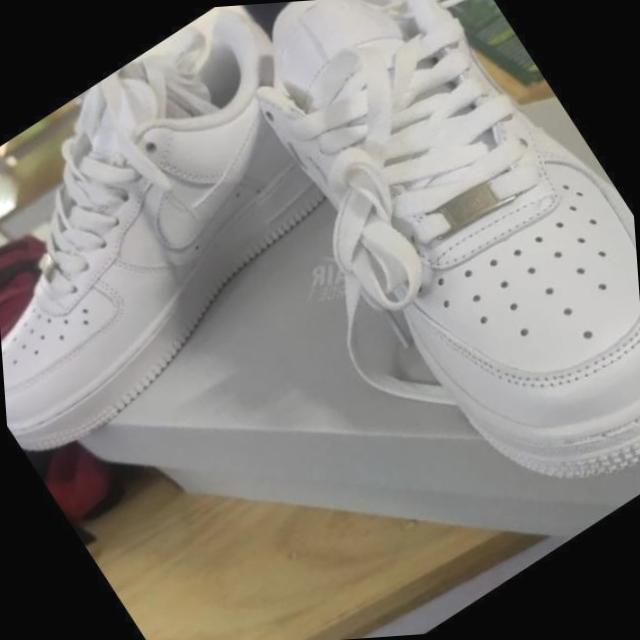nike_original_airforce: (214, 0, 640, 554), (0, 0, 420, 473)
